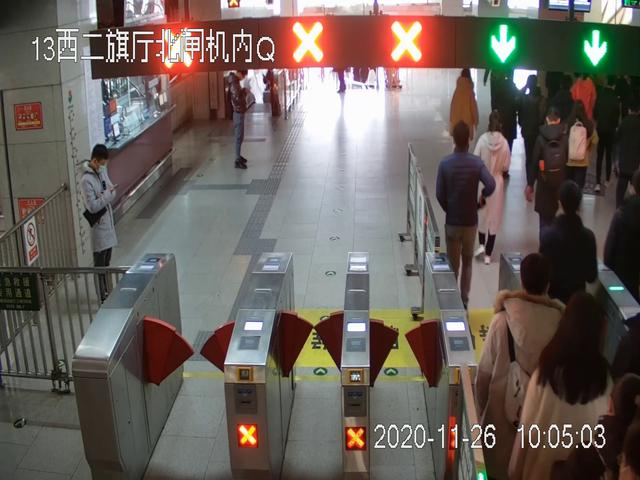person: (475, 255, 577, 480), (507, 294, 616, 480), (540, 177, 600, 378), (438, 120, 495, 309), (78, 144, 122, 305), (527, 106, 569, 251), (473, 111, 508, 264), (565, 101, 597, 214), (225, 67, 252, 171), (449, 67, 478, 157)
